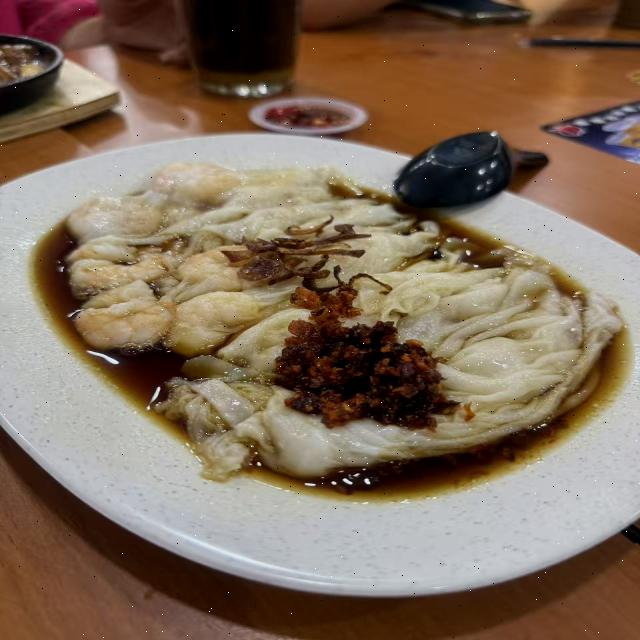Chee Cheong Fun: (15, 128, 629, 546)
